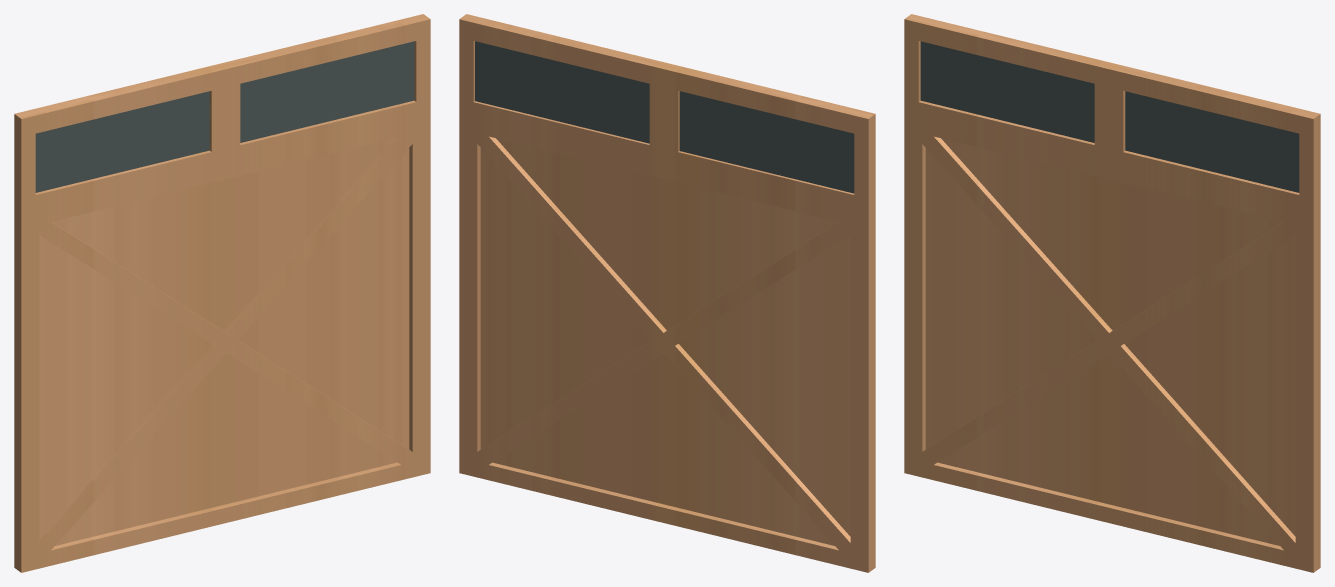
The model's file is sweethome3d-contributions-garage-door-201.glb.
3 renders of one model, left to right at view 1: azimuth 30°, elevation 25°; view 2: azimuth 150°, elevation 25°; view 3: azimuth 330°, elevation 25°, orthographic.
Visible parts, largest first — view 1: PolyMesh_1, sweethome3d_window_pane; view 2: PolyMesh_1, sweethome3d_window_pane; view 3: PolyMesh_1, sweethome3d_window_pane.
Boxes of the visible parts, <box> form: PolyMesh_1: <box>14,14,430,572</box>; sweethome3d_window_pane: <box>35,41,414,192</box>; PolyMesh_1: <box>459,14,875,572</box>; sweethome3d_window_pane: <box>475,41,854,193</box>; PolyMesh_1: <box>904,14,1320,572</box>; sweethome3d_window_pane: <box>920,41,1299,192</box>.
Size of the model in its own units: 6.84 by 7.24 by 0.208.
Materials: 2 (1 with a texture image).
